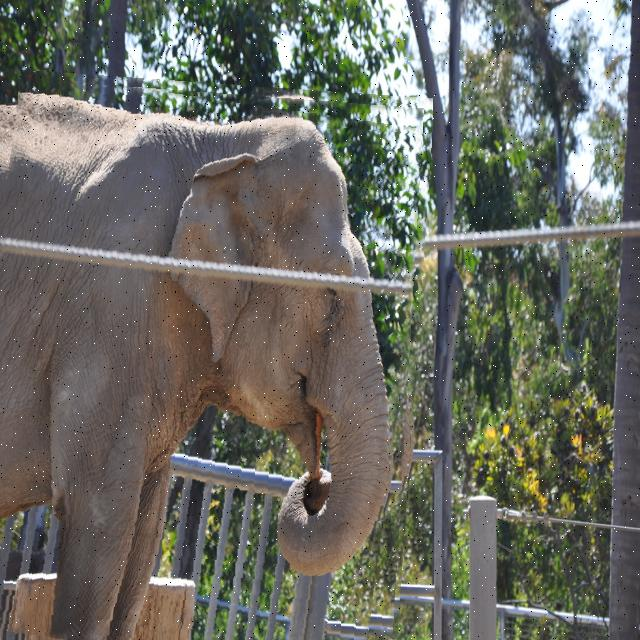elephant: (0, 77, 424, 640)
